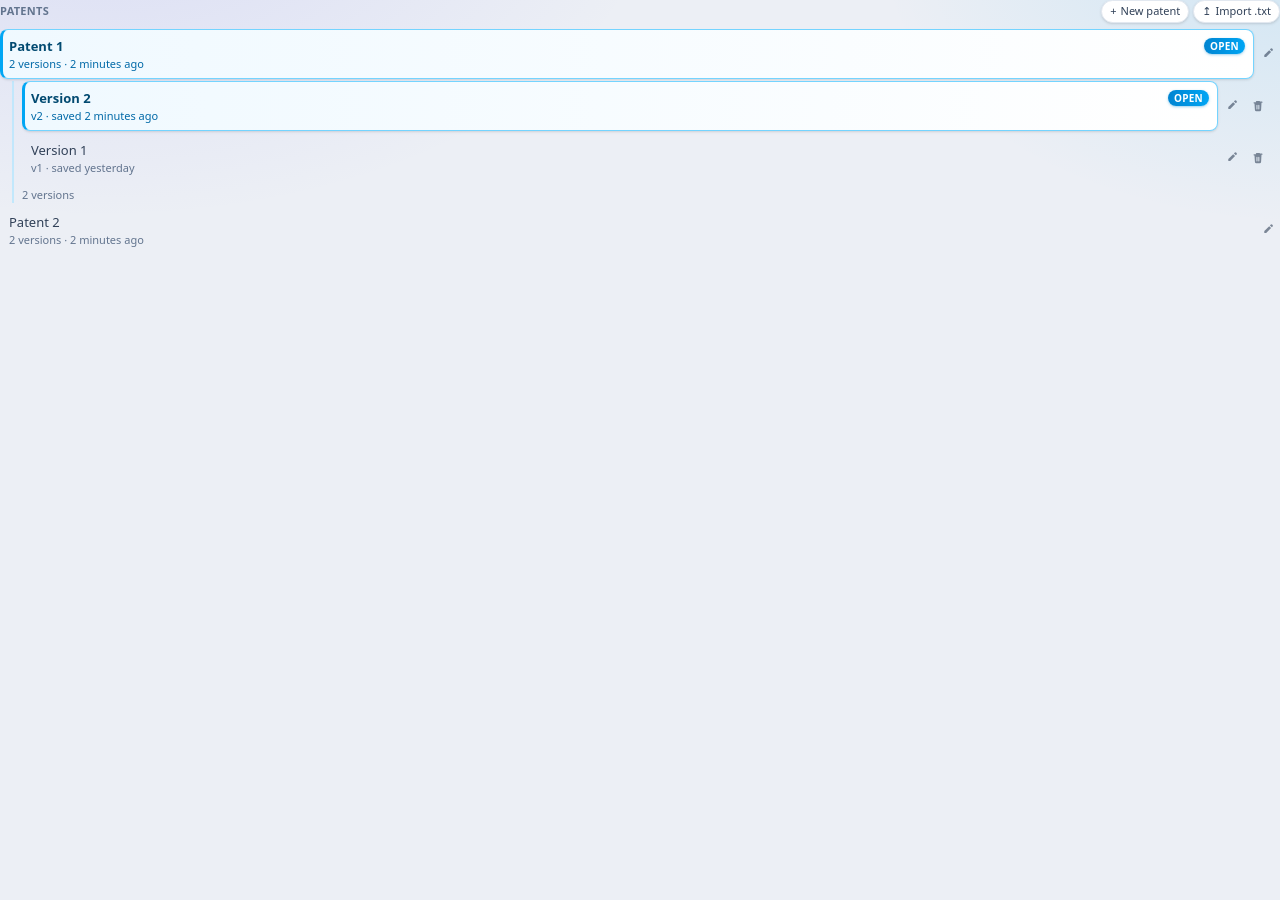
Test: PatentTree › keeps the dialog open with the server's sentence on a failed delete
Click the button named "Delete version 1".
click(1258, 158)  # box [1246, 132, 1270, 182]
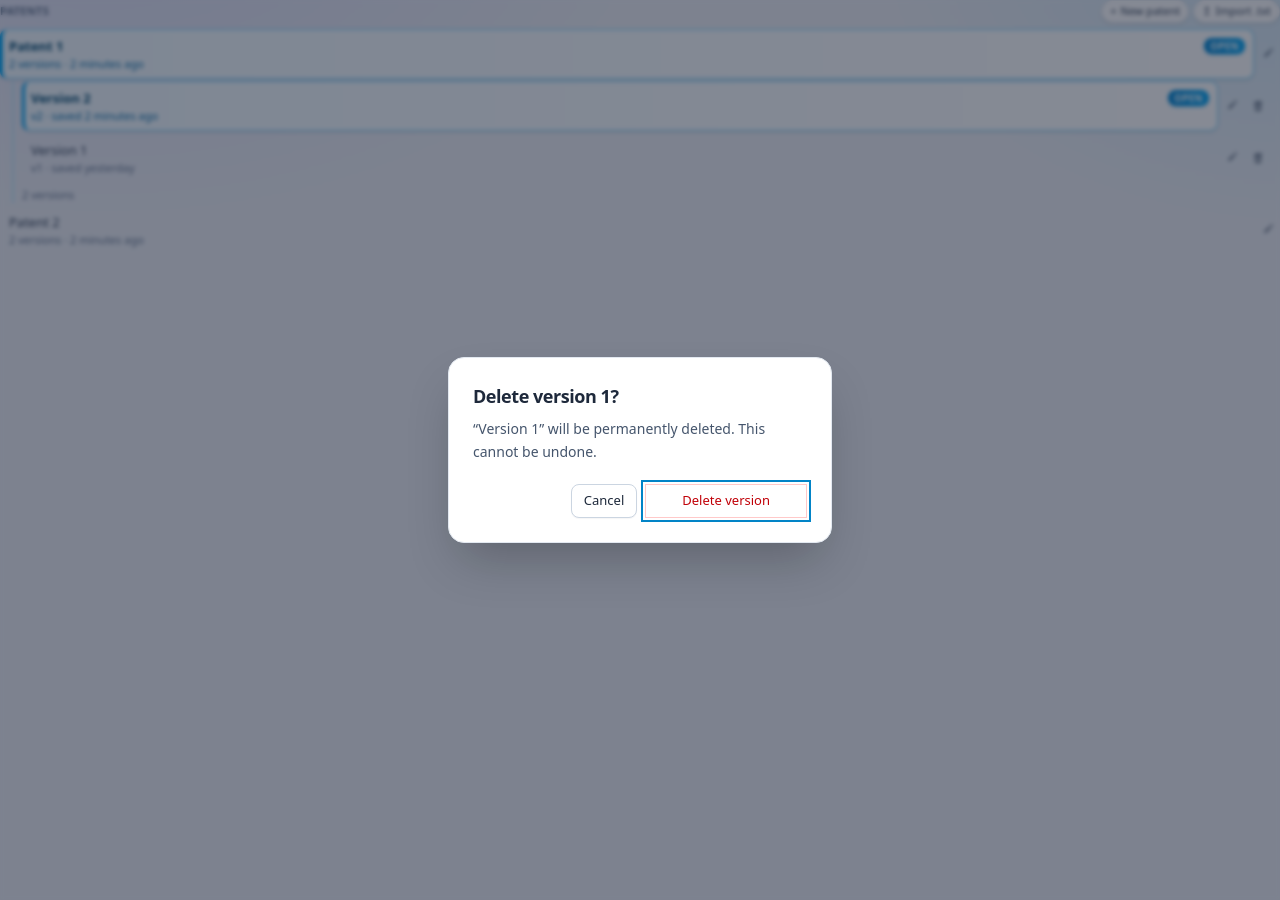
Click the button "Delete version".
click(726, 501)  # box [645, 484, 807, 518]
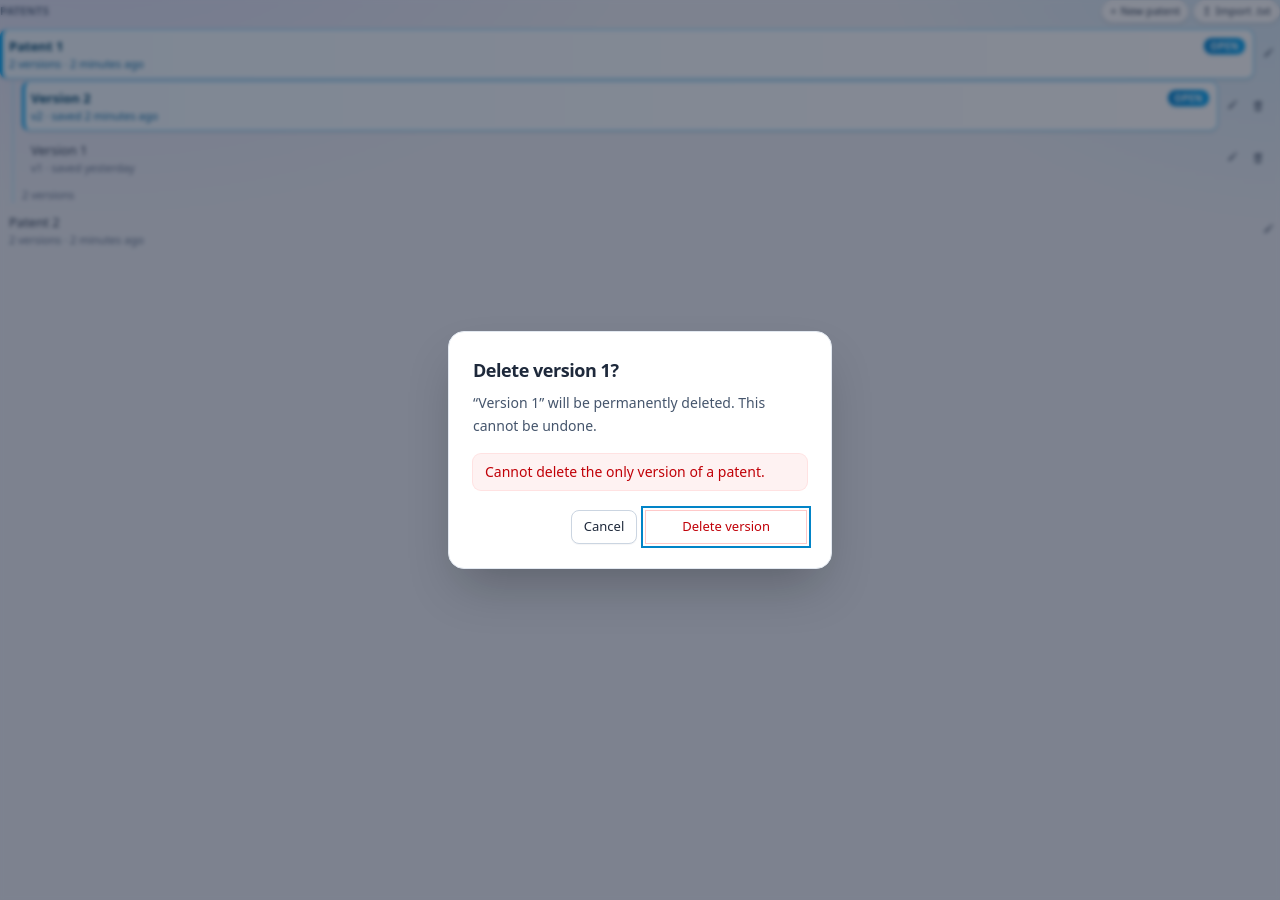
Check: the heading "Delete version 1?" is shown, box [473, 358, 619, 382]
Check: the message reads "Cannot delete the only version of a patent.", box [485, 462, 765, 481]
